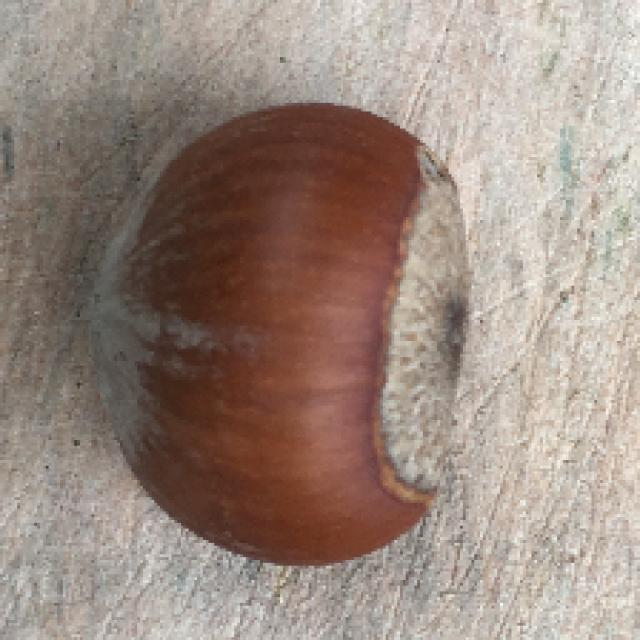qualityHazelnut: (85, 96, 474, 570)
